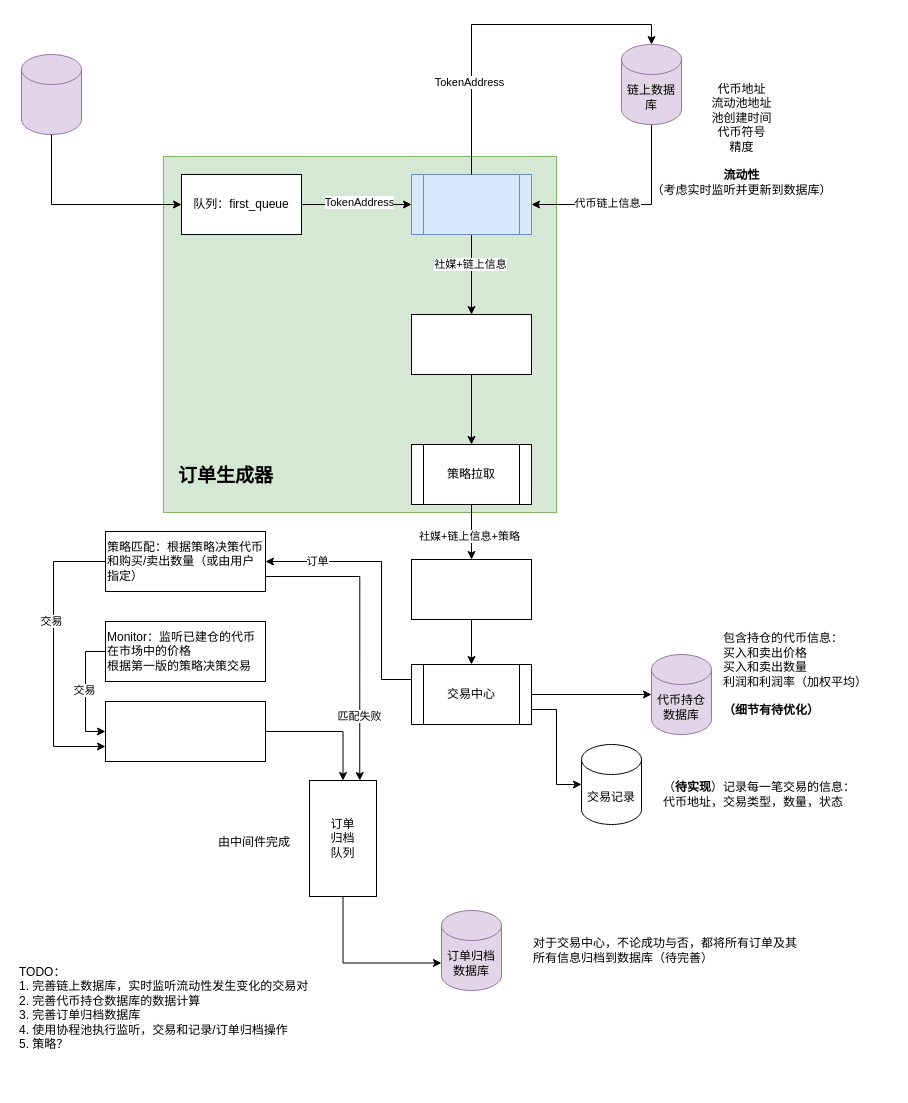
This 908x1103 diagram has some shape labels left out. The shapes that lost their labels are listed below. From the top down, each one's centre as x and y in pixels, then its label:
At pixel 51 94: "社媒数据库".
At pixel 471 204: "查询链上信息".
At pixel 471 344: "队列：media_chain_queue".
At pixel 471 589: "队列：order_queue".
At pixel 185 731: "Trader：进行建仓，加仓或建仓操作".
